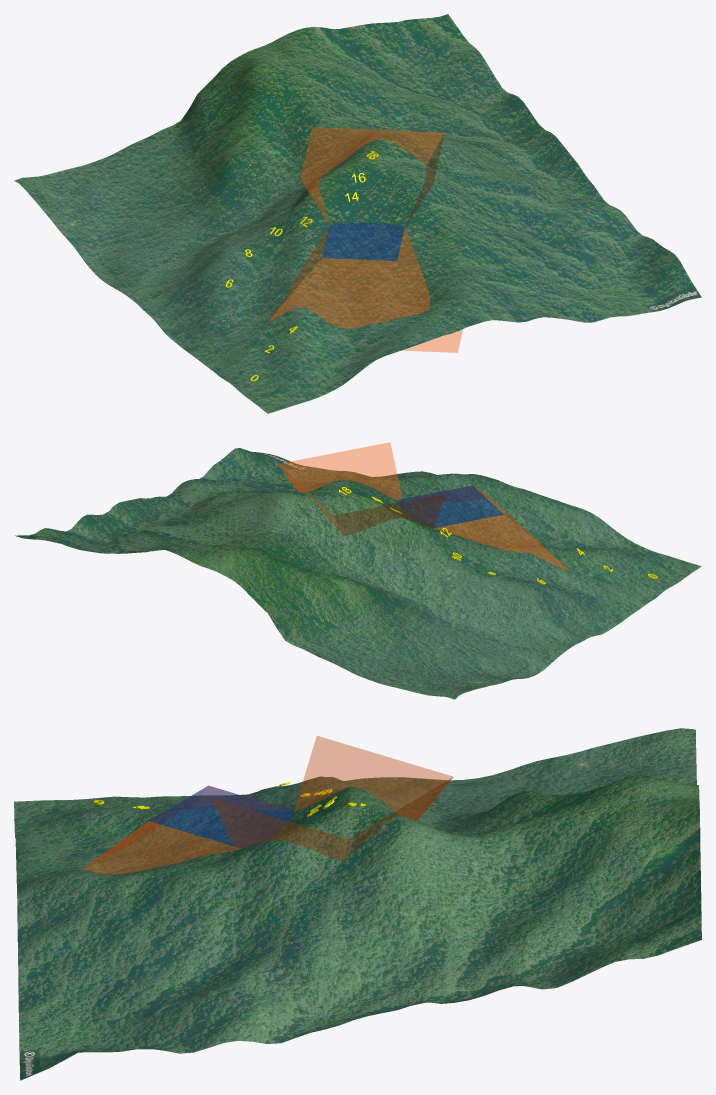
Rendered from curva13a.gltf.
The picture shows the model from 3 angles, top to bottom: view 1: azimuth 30°, elevation 25°; view 2: azimuth 150°, elevation 25°; view 3: azimuth 270°, elevation 25°; orthographic projection. The views are drawn at different scales.
Parts seen in each view (by area): view 1: root; view 2: root; view 3: root.
Part boxes in pixels (x1,y1,x2,y2): root: (14, 14, 701, 413); root: (15, 442, 701, 699); root: (14, 728, 701, 1080).
Size of the model in its own units: 2019 by 576 by 2004.
Materials: 5 (1 with a texture image).
